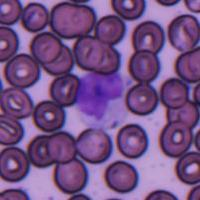M: (74, 72, 125, 123)
